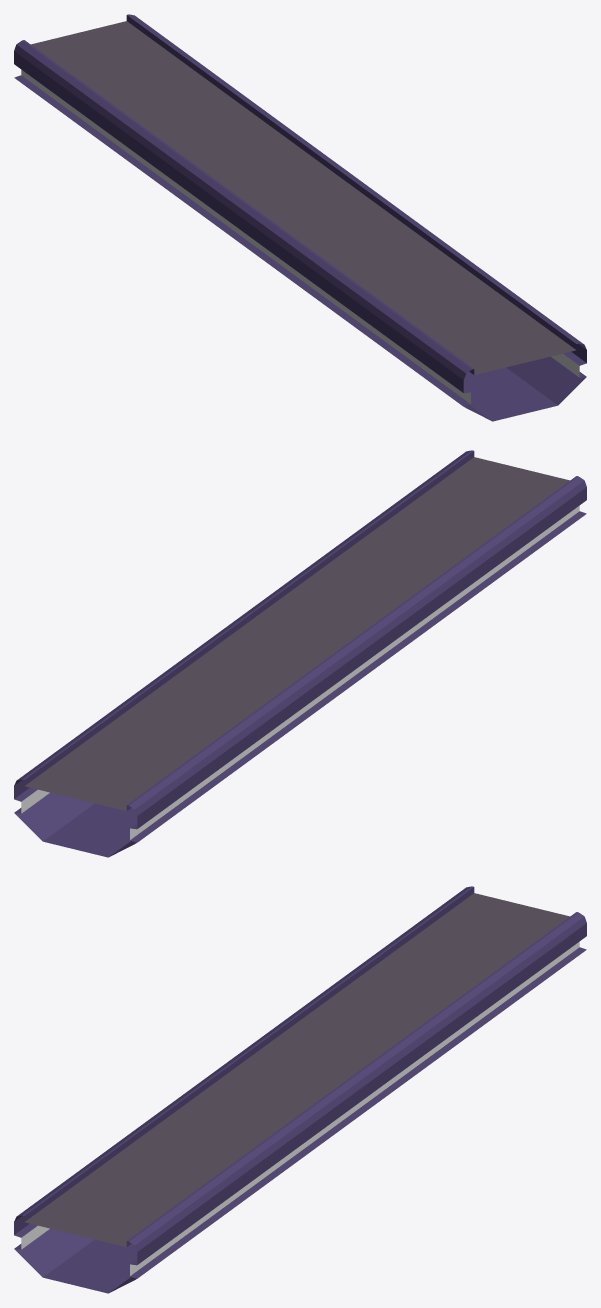
The model's file is Routes_Droite.fbx.
3 views of the same model, one above another, from view 1: azimuth 30°, elevation 25°; view 2: azimuth 150°, elevation 25°; view 3: azimuth 330°, elevation 25° (orthographic).
Visible parts, largest first — view 1: Route_Droite; view 2: Route_Droite; view 3: Route_Droite.
Boxes of the visible parts, x1,y1,x2,y2 form: Route_Droite: [14, 14, 586, 421]; Route_Droite: [14, 450, 586, 857]; Route_Droite: [14, 886, 586, 1293].
Bounding box in the file's own units: 90.96 × 40.21 × 575.
